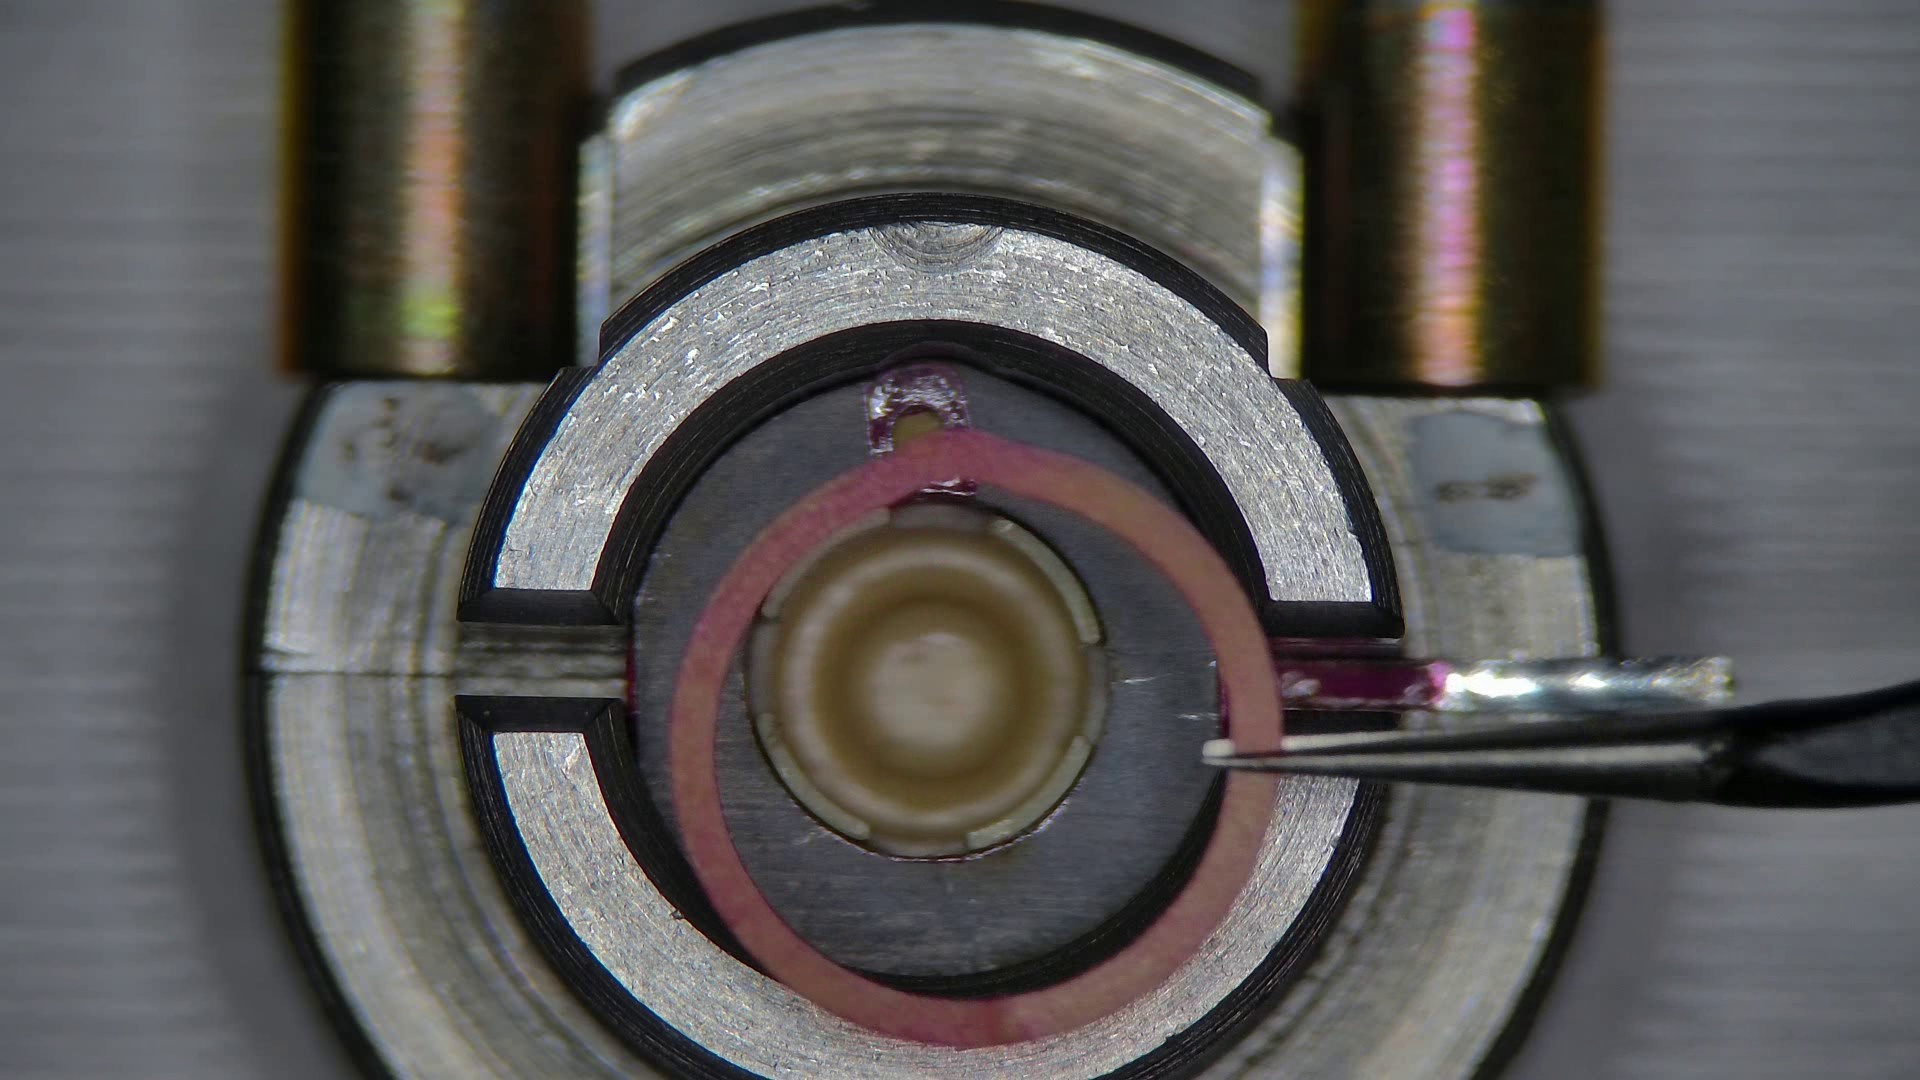GreyOring: (667, 434, 1279, 1050)
YellowOring: (634, 363, 1185, 810), (717, 493, 1221, 978)
